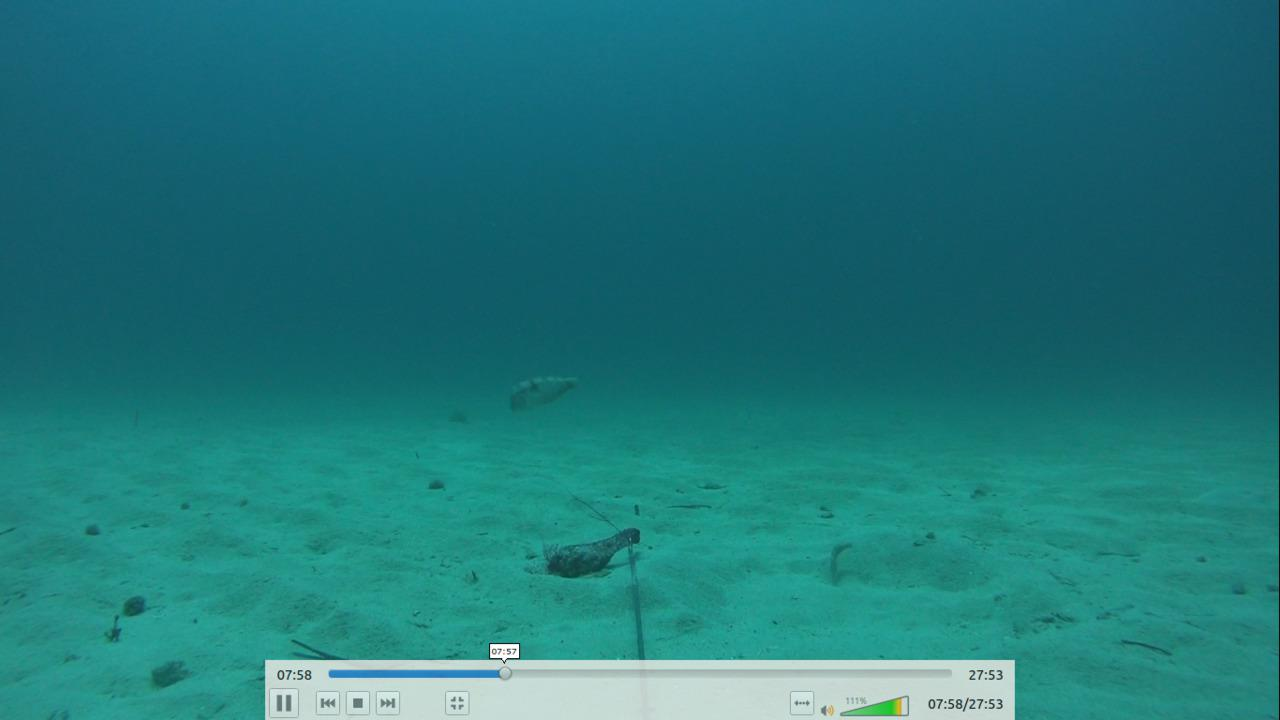raor: (503, 366, 581, 418)
